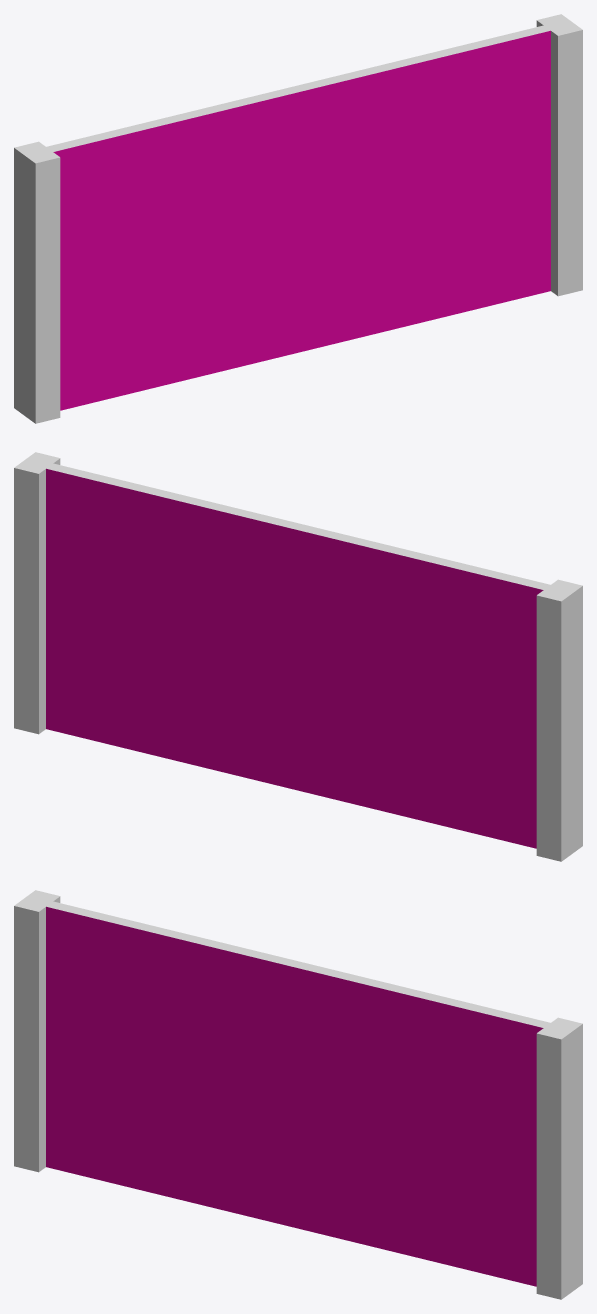
The model's file is FMP_IndustrialFence.fbx.
3 views of the same model, one above another, from view 1: azimuth 30°, elevation 25°; view 2: azimuth 150°, elevation 25°; view 3: azimuth 330°, elevation 25° (orthographic).
Visible parts, largest first — view 1: IndustrialFenceBody; view 2: IndustrialFenceBody; view 3: IndustrialFenceBody.
Part boxes in pixels (x1,y1,x2,y2): IndustrialFenceBody: [14, 14, 582, 423]; IndustrialFenceBody: [14, 452, 582, 861]; IndustrialFenceBody: [14, 890, 582, 1299].
Bounding box in the file's own units: 4.4 × 0.3 × 2.
